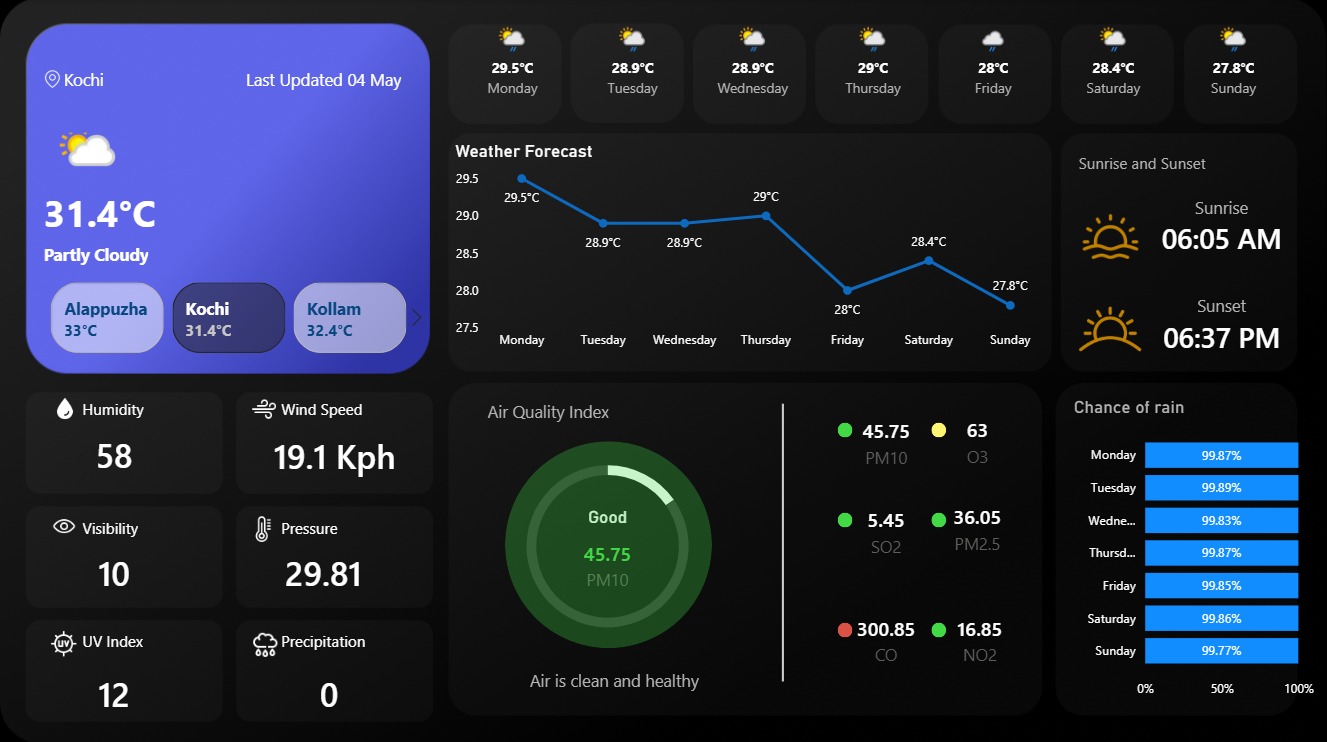

The page's visual inventory and layout, read from the dashboard file:
{"tool":"powerbi","page":{"name":"Page 1","canvas":[1280,720],"ordinal":0},"visuals":[{"type":"advancedSlicerVisual","fields":{"Values":["Locations.location.name"]},"box":[24.7,267.6,393.8,78.2],"z":0},{"type":"shape","box":[42.5,179.8,145.5,43.9],"z":1000},{"type":"shape","box":[42.5,223.7,326.6,43.9],"z":2000},{"type":"shape","box":[61.7,54.9,144.1,43.9],"z":3000},{"type":"shape","box":[227.8,54.9,159.2,43.9],"z":4000},{"type":"image","box":[42.5,54.9,16.5,43.9],"z":5000},{"type":"cardVisual","fields":{"Data":["Min(Current.current.condition.icon)"]},"box":[24.7,111.1,109.8,68.6],"z":6000},{"type":"shape","box":[79.6,384.2,97.4,22],"z":7000},{"type":"shape","box":[271.7,384.2,97.4,22],"z":8000},{"type":"shape","box":[271.7,498.1,97.4,22],"z":9000},{"type":"shape","box":[271.7,607.9,97.4,22],"z":10000},{"type":"shape","box":[79.6,607.9,97.4,22],"z":11000},{"type":"shape","box":[79.6,498.1,97.4,22],"z":12000},{"type":"image","box":[48,384.2,28.8,22],"z":13000},{"type":"image","box":[49.4,494,24.7,28.8],"z":14000},{"type":"image","box":[48,607.9,26.1,26.1],"z":15000},{"type":"image","box":[237.4,382.8,34.3,24.7],"z":16000},{"type":"image","box":[237.4,498.1,32.9,24.7],"z":17000},{"type":"image","box":[237.4,607.9,37,28.8],"z":18000},{"type":"cardVisual","fields":{"Data":["Sum(Current.current.humidity)"]},"box":[59,406.2,102.9,63.1],"z":19000},{"type":"cardVisual","fields":{"Data":["Measure_table.Wind Speed"]},"box":[227.8,395.2,190.7,85.1],"z":20000},{"type":"cardVisual","fields":{"Data":["Sum(Current.current.pressure_in)"]},"box":[237.4,520.1,149.6,63.1],"z":21000},{"type":"cardVisual","fields":{"Data":["Sum(Current.current.precip_in)"]},"box":[266.2,636.7,102.9,63.1],"z":22000},{"type":"cardVisual","fields":{"Data":["Sum(Current.current.vis_km)"]},"box":[59,520.1,102.9,63.1],"z":23000},{"type":"cardVisual","fields":{"Data":["Sum(Current.current.uv)"]},"box":[59,636.7,102.9,63.1],"z":24000},{"type":"advancedSlicerVisual","fields":{"Values":["Forcast_day.Day_Name"]},"box":[435.1,16.1,818.9,95.2],"z":25000},{"type":"lineChart","title":"Weather Forecast","fields":{"Y":["Sum(Forcast_day.forecast.forecastday.day.avgtemp_c)"],"Category":["Forcast_day.Day_Name"]},"box":[434.5,135.6,577.4,211.4],"z":26000},{"type":"shape","box":[1041.2,145.8,141.4,21.9],"z":27000},{"type":"cardVisual","fields":{"Data":["Min(Forcast_day.Sunrise_Date)"]},"box":[1079.1,167.7,201.2,100.6],"z":28000},{"type":"cardVisual","fields":{"Data":["Min(Forcast_day.Sunset_Date)"]},"box":[1079.1,266.8,201.2,93.3],"z":29000},{"type":"image","box":[1030.9,275.6,80.2,84.6],"z":30000},{"type":"image","box":[1012,201.2,119.6,54],"z":31000},{"type":"hundredPercentStackedBarChart","title":"Chance of rain","fields":{"Y":["Sum(Forcast_hours.forecast.forecastday.hour.chance_of_rain)","Measure_table.Left_value_rain"],"Category":["Forcast_day.Day_Name"]},"box":[1030.9,382,242.1,300.4],"z":32000},{"type":"shape","box":[471,386.4,137.1,21.9],"z":33000},{"type":"cardVisual","fields":{"Data":["Sum(Current.current.air_quality.o3)"]},"box":[876.4,382,135.6,87.5],"z":34000},{"type":"cardVisual","fields":{"Data":["Sum(Current.current.air_quality.pm2_5)"]},"box":[876.4,466.6,135.6,87.5],"z":35000},{"type":"cardVisual","fields":{"Data":["Sum(Current.current.air_quality.no2)"]},"box":[877.8,574.5,135.6,87.5],"z":36000},{"type":"cardVisual","fields":{"Data":["Sum(Current.current.air_quality.pm10)"]},"box":[787.4,383.5,135.6,87.5],"z":37000},{"type":"cardVisual","fields":{"Data":["Sum(Current.current.air_quality.so2)"]},"box":[787.4,469.5,135.6,87.5],"z":38000},{"type":"cardVisual","fields":{"Data":["Sum(Current.current.air_quality.co)"]},"box":[787.4,574.5,135.6,87.5],"z":39000},{"type":"shape","box":[807.8,408.3,14.6,14.6],"z":40000},{"type":"shape","box":[898.2,600.8,14.6,14.6],"z":41000},{"type":"shape","box":[807.8,494.3,14.6,14.6],"z":42000},{"type":"shape","box":[807.8,600.8,14.6,14.6],"z":43000},{"type":"shape","box":[898.2,408.3,14.6,14.6],"z":44000},{"type":"shape","box":[898.2,494.3,14.6,14.6],"z":45000},{"type":"shape","box":[736.4,389.3,39.4,268.3],"z":46000},{"type":"cardVisual","fields":{"Data":["Sum(Current.current.air_quality.pm10)"]},"box":[519.1,488.5,135.6,94.8],"z":47000},{"type":"donutChart","fields":{"Y":["Sum(Current.current.air_quality.pm10)","Measure_table.Left_value_PM10"]},"box":[484.1,417,205.6,220.2],"z":47001},{"type":"shape","box":[487,425.8,199.8,199.8],"z":47002},{"type":"shape","box":[450.6,646,285.8,21.9],"z":47003}]}

Visuals, with their boxes in screenshot pixels (x1, y1, x2, y2), scaled from the page's 1280x720 canvas onto the 1327x742 screenshot:
advancedSlicerVisual - Locations.location.name: bbox(26, 276, 434, 356)
shape: bbox(44, 185, 195, 231)
shape: bbox(44, 231, 383, 276)
shape: bbox(64, 57, 213, 102)
shape: bbox(236, 57, 401, 102)
image: bbox(44, 57, 61, 102)
cardVisual - Min(Current.current.condition.icon): bbox(26, 114, 139, 185)
shape: bbox(83, 396, 183, 419)
shape: bbox(282, 396, 383, 419)
shape: bbox(282, 513, 383, 536)
shape: bbox(282, 626, 383, 649)
shape: bbox(83, 626, 183, 649)
shape: bbox(83, 513, 183, 536)
image: bbox(50, 396, 80, 419)
image: bbox(51, 509, 77, 539)
image: bbox(50, 626, 77, 653)
image: bbox(246, 394, 282, 420)
image: bbox(246, 513, 280, 539)
image: bbox(246, 626, 284, 656)
cardVisual - Sum(Current.current.humidity): bbox(61, 419, 168, 484)
cardVisual - Measure_table.Wind Speed: bbox(236, 407, 434, 495)
cardVisual - Sum(Current.current.pressure_in): bbox(246, 536, 401, 601)
cardVisual - Sum(Current.current.precip_in): bbox(276, 656, 383, 721)
cardVisual - Sum(Current.current.vis_km): bbox(61, 536, 168, 601)
cardVisual - Sum(Current.current.uv): bbox(61, 656, 168, 721)
advancedSlicerVisual - Forcast_day.Day_Name: bbox(451, 17, 1300, 115)
"Weather Forecast" lineChart: bbox(450, 140, 1049, 358)
shape: bbox(1079, 150, 1226, 173)
cardVisual - Min(Forcast_day.Sunrise_Date): bbox(1119, 173, 1326, 276)
cardVisual - Min(Forcast_day.Sunset_Date): bbox(1119, 275, 1326, 371)
image: bbox(1069, 284, 1152, 371)
image: bbox(1049, 207, 1173, 263)
"Chance of rain" hundredPercentStackedBarChart: bbox(1069, 394, 1320, 703)
shape: bbox(488, 398, 630, 421)
cardVisual - Sum(Current.current.air_quality.o3): bbox(909, 394, 1049, 484)
cardVisual - Sum(Current.current.air_quality.pm2_5): bbox(909, 481, 1049, 571)
cardVisual - Sum(Current.current.air_quality.no2): bbox(910, 592, 1051, 682)
cardVisual - Sum(Current.current.air_quality.pm10): bbox(816, 395, 957, 485)
cardVisual - Sum(Current.current.air_quality.so2): bbox(816, 484, 957, 574)
cardVisual - Sum(Current.current.air_quality.co): bbox(816, 592, 957, 682)
shape: bbox(837, 421, 853, 436)
shape: bbox(931, 619, 946, 634)
shape: bbox(837, 509, 853, 524)
shape: bbox(837, 619, 853, 634)
shape: bbox(931, 421, 946, 436)
shape: bbox(931, 509, 946, 524)
shape: bbox(763, 401, 804, 678)
cardVisual - Sum(Current.current.air_quality.pm10): bbox(538, 503, 679, 601)
donutChart - Sum(Current.current.air_quality.pm10) x Measure_table.Left_value_PM10: bbox(502, 430, 715, 657)
shape: bbox(505, 439, 712, 645)
shape: bbox(467, 666, 763, 688)
